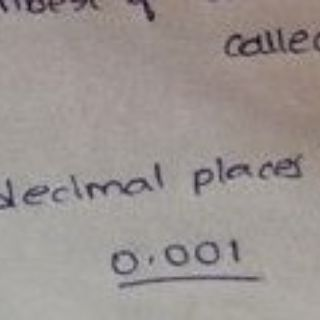.: (145, 254, 157, 267)
0: (108, 249, 139, 276), (162, 241, 191, 268), (193, 239, 222, 266)
1: (228, 235, 242, 265)
